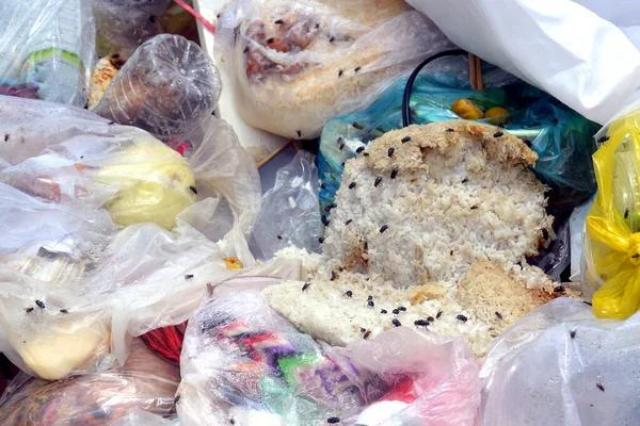Plastic_Bag: (0, 96, 226, 381), (0, 279, 387, 426), (585, 107, 640, 319)
Plastic_bottle: (94, 34, 221, 141)
contaminated_waste: (0, 100, 260, 381), (215, 0, 454, 140), (410, 56, 596, 207), (176, 291, 364, 426), (481, 299, 640, 426), (317, 77, 406, 213), (585, 107, 640, 319)
